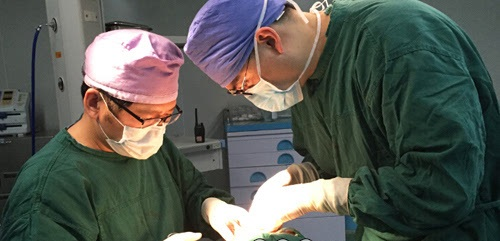face_mask: (219, 51, 311, 114), (114, 80, 178, 161)
